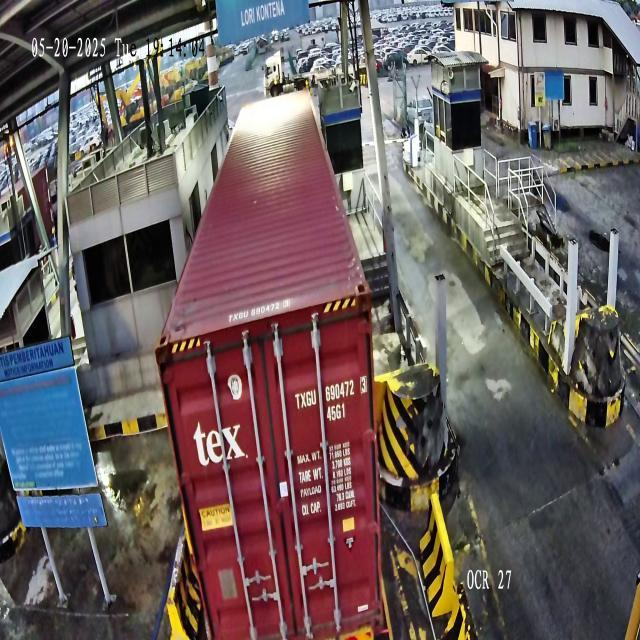ISO: (326, 402, 346, 423)
container_number: (294, 376, 367, 410)
